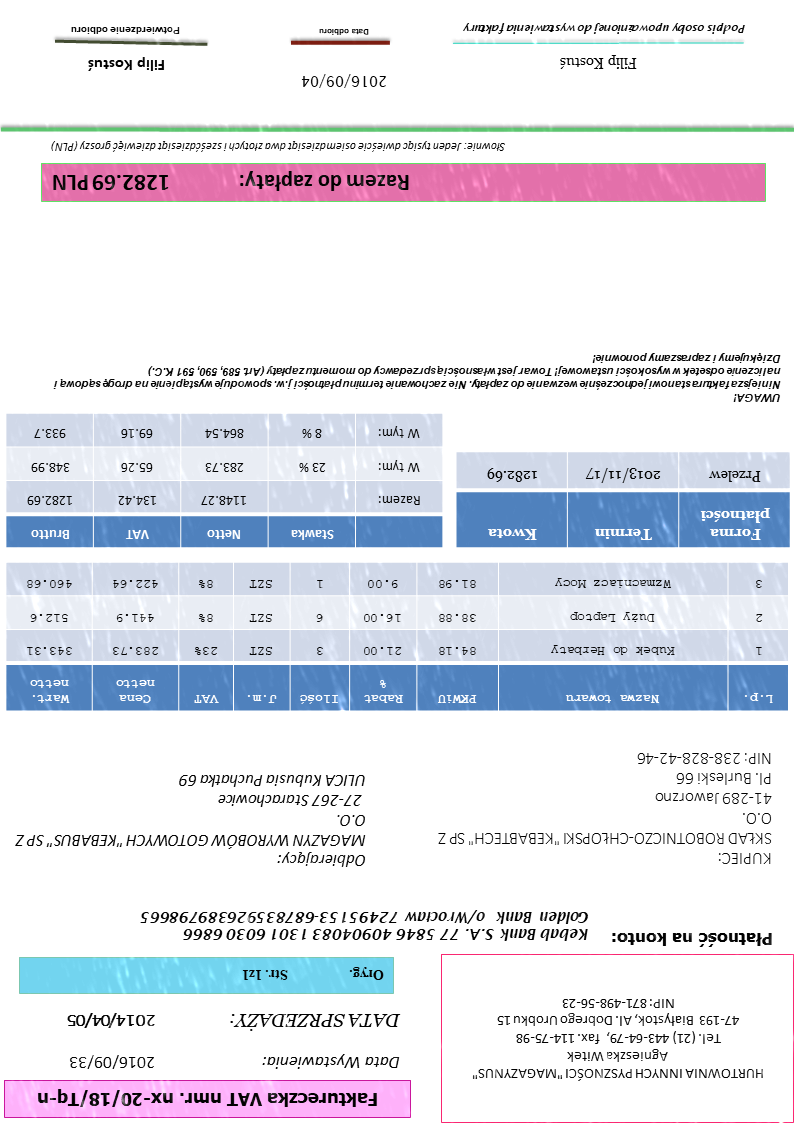Table: (4, 559, 790, 715), (4, 410, 445, 550), (456, 450, 792, 549)
TextBox: (50, 350, 785, 409), (435, 746, 776, 871), (10, 768, 369, 871), (470, 993, 770, 1083), (137, 906, 593, 944), (49, 168, 413, 199), (50, 138, 511, 159), (35, 1087, 384, 1110), (457, 19, 749, 37), (229, 1008, 404, 1035), (610, 927, 780, 951), (240, 963, 390, 988), (261, 1052, 406, 1076), (64, 1009, 160, 1034), (297, 71, 390, 96), (81, 56, 170, 77), (558, 53, 642, 75), (69, 23, 183, 39), (67, 1053, 159, 1072), (314, 24, 376, 41)
